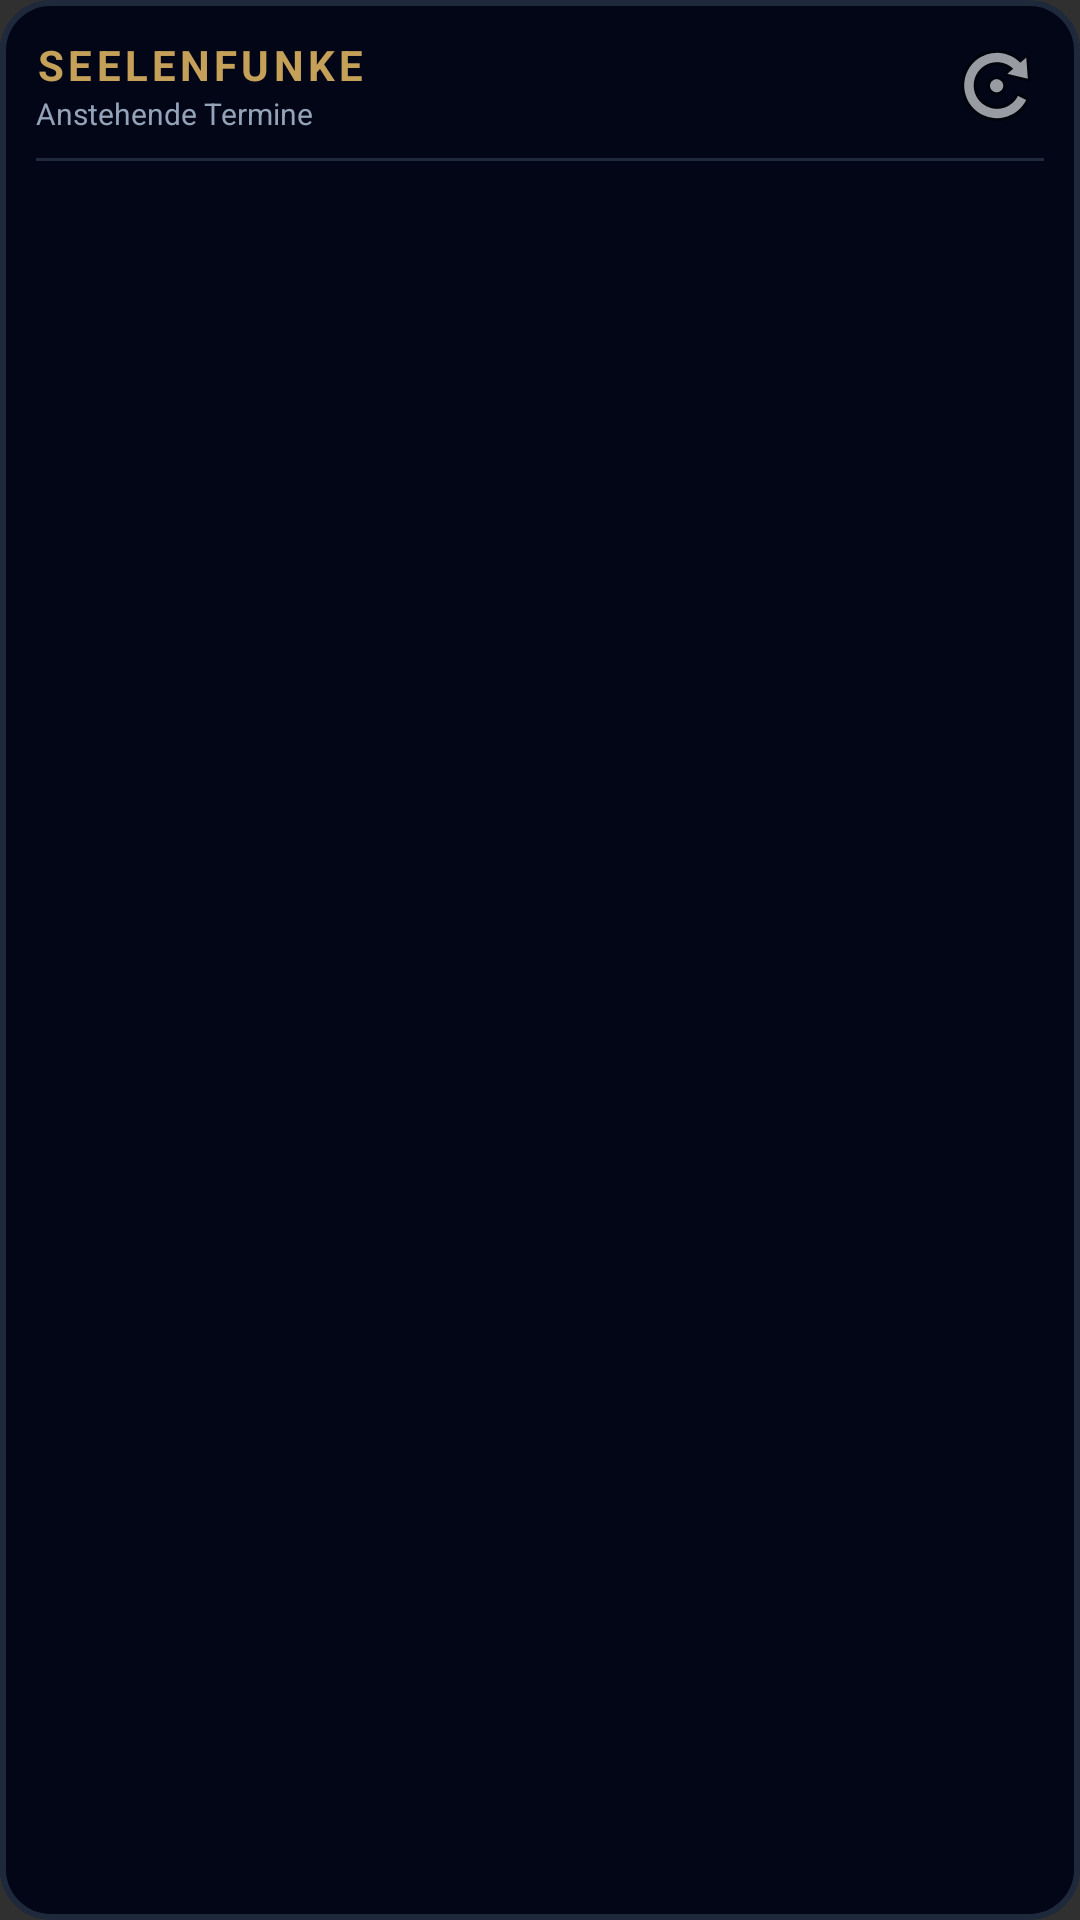

Where icons sit on this 1080 × 1920 app screen, as bbox(x1, y1, x2, y2):
Aktualisieren: bbox(964, 52, 1028, 119)
